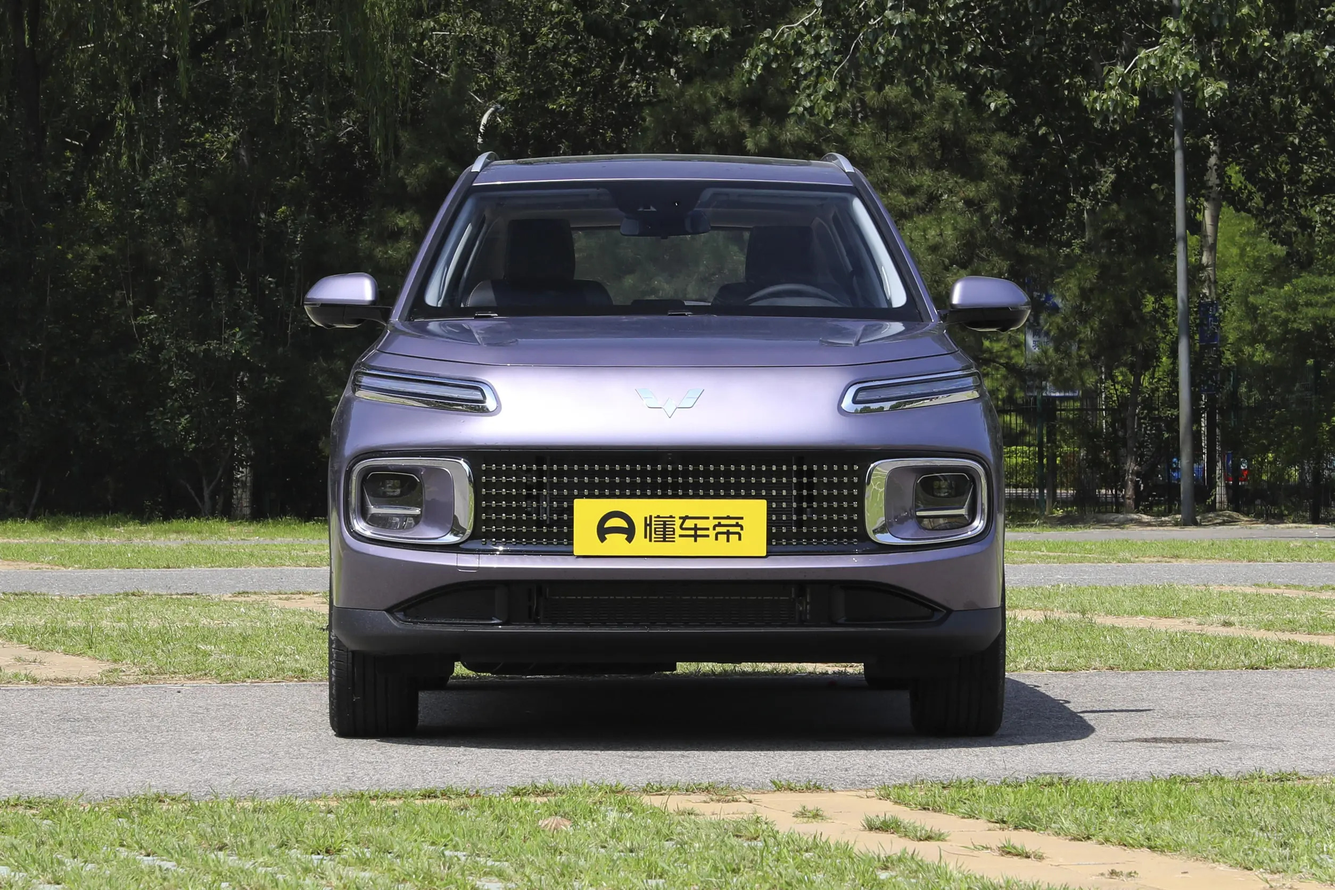SGMW: (636, 389, 704, 417)
